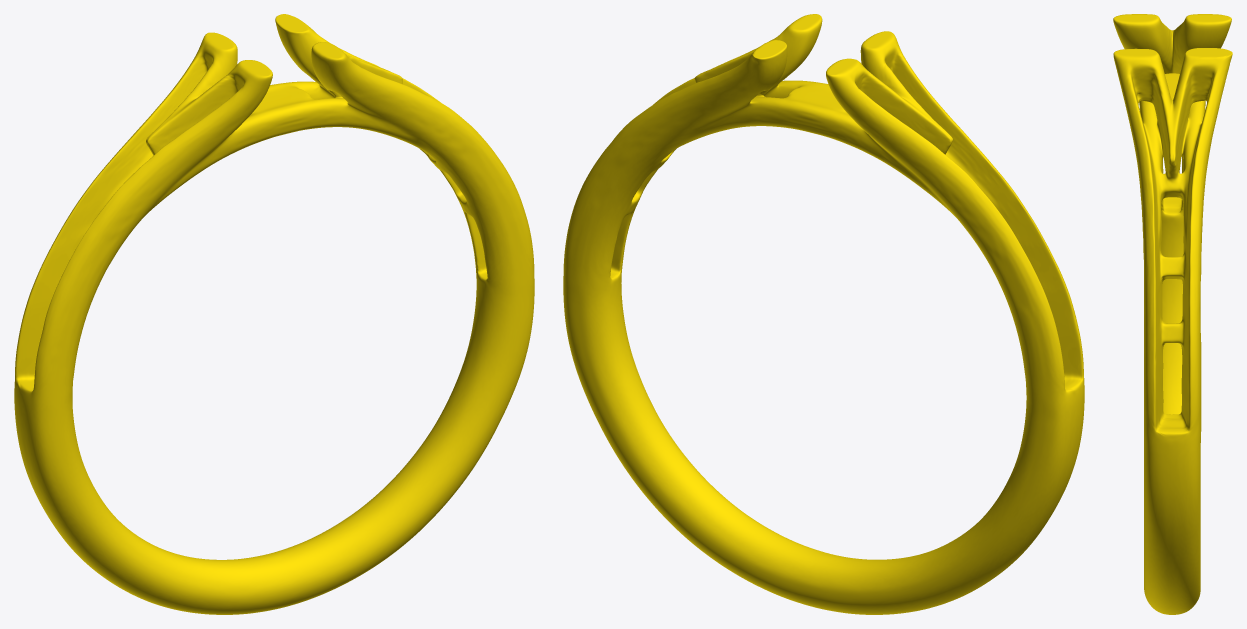
The model's file is Shank_Split_Channel_A_No, Hidden Halo_Band.glb.
The picture shows the model from 3 angles, left to right: view 1: azimuth 30°, elevation 25°; view 2: azimuth 150°, elevation 25°; view 3: azimuth 270°, elevation 25°; orthographic projection.
Bounding box in the file's own units: 0.0212 × 0.0224 × 0.00439.
